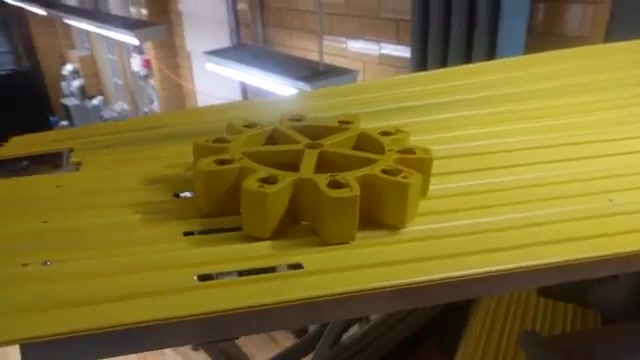gear: (187, 111, 444, 250)
